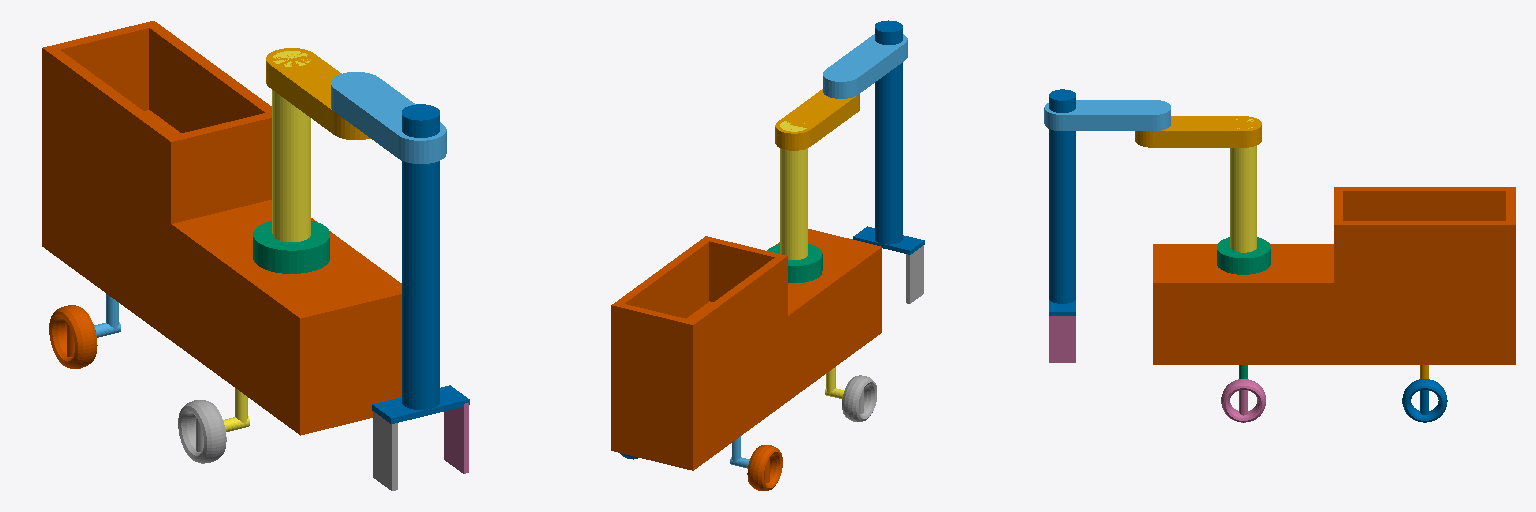
URDF robot description (robot_model):
<robot name="robot_model" version="1.0">
  <joint name="arm_1_link_joint" type="continuous">
    <limit lower="0" upper="0" effort="0.00000" velocity="0.00000"/>
    <origin rpy="0.00000 0.00000 0.00000" xyz="-0.00000 0.00000 0.65000"/>
    <parent link="arm_column_link"/>
    <child link="arm_1_link"/>
    <axis xyz="0.00000 0.00000 1.00000"/>
  </joint>
  <joint name="arm_2_link_joint" type="continuous">
    <limit lower="0" upper="0" effort="0.00000" velocity="0.00000"/>
    <origin rpy="0.00000 0.00000 0.00000" xyz="0.00000 -1.00000 0.20000"/>
    <parent link="arm_1_link"/>
    <child link="arm_2_link"/>
    <axis xyz="0.00000 0.00000 1.00000"/>
  </joint>
  <joint name="arm_base_link_joint" type="fixed">
    <origin rpy="0.00000 0.00000 0.00000" xyz="0.00000 -1.08925 0.52413"/>
    <parent link="chasis_link"/>
    <child link="arm_base_link"/>
  </joint>
  <joint name="arm_column_link_joint" type="continuous">
    <limit lower="0" upper="0" effort="0.00000" velocity="0.00000"/>
    <origin rpy="0.00000 0.00000 0.00000" xyz="0.00000 0.00000 0.85000"/>
    <parent link="arm_base_link"/>
    <child link="arm_column_link"/>
    <axis xyz="0.00000 0.00000 1.00000"/>
  </joint>
  <joint name="arm_gripper_link_joint" type="prismatic">
    <limit lower="-0.20000" upper="-1.80000" effort="0.00000" velocity="0.00000"/>
    <origin rpy="0.00000 0.00000 0.00000" xyz="-0.00000 -1.00000 -0.07053"/>
    <parent link="arm_2_link"/>
    <child link="arm_gripper_link"/>
    <axis xyz="0.00000 0.00000 1.00000"/>
  </joint>
  <joint name="gripper_left_link_joint" type="prismatic">
    <limit lower="0.00000" upper="-0.25000" effort="0.00000" velocity="0.00000"/>
    <origin rpy="0.00000 -1.57080 0.00000" xyz="0.32000 -0.00000 -2.53589"/>
    <parent link="arm_gripper_link"/>
    <child link="gripper_left_link"/>
    <axis xyz="0.00000 0.00000 1.00000"/>
  </joint>
  <joint name="gripper_right_link_joint" type="prismatic">
    <limit lower="0.00000" upper="0.25000" effort="0.00000" velocity="0.00000"/>
    <origin rpy="-0.00000 1.57080 0.00000" xyz="-0.32000 -0.00000 -2.53589"/>
    <parent link="arm_gripper_link"/>
    <child link="gripper_right_link"/>
    <axis xyz="0.00000 0.00000 1.00000"/>
  </joint>
  <joint name="subjection_down_left_wheel_link_joint" type="fixed">
    <origin rpy="0.00000 0.00000 0.00000" xyz="0.53571 0.91075 -0.81158"/>
    <parent link="chasis_link"/>
    <child link="subjection_down_left_wheel_link"/>
  </joint>
  <joint name="subjection_down_right_wheel_link_joint" type="fixed">
    <origin rpy="0.00000 0.00000 0.00000" xyz="-0.53571 0.91075 -0.81158"/>
    <parent link="chasis_link"/>
    <child link="subjection_down_right_wheel_link"/>
  </joint>
  <joint name="subjection_up_left_wheel_link_joint" type="fixed">
    <origin rpy="0.00000 0.00000 0.00000" xyz="0.53571 -1.08925 -0.81158"/>
    <parent link="chasis_link"/>
    <child link="subjection_up_left_wheel_link"/>
  </joint>
  <joint name="subjection_up_right_wheel_link_joint" type="fixed">
    <origin rpy="0.00000 0.00000 0.00000" xyz="-0.53571 -1.08925 -0.81158"/>
    <parent link="chasis_link"/>
    <child link="subjection_up_right_wheel_link"/>
  </joint>
  <joint name="wheel_down_left_link_joint" type="continuous">
    <limit lower="0" upper="0" effort="0.00000" velocity="0.00000"/>
    <origin rpy="-0.00000 1.57080 0.00000" xyz="0.26429 0.00000 -0.06429"/>
    <parent link="subjection_down_left_wheel_link"/>
    <child link="wheel_down_left_link"/>
    <axis xyz="0.00000 0.00000 1.00000"/>
  </joint>
  <joint name="wheel_down_right_link_joint" type="continuous">
    <limit lower="0" upper="0" effort="0.00000" velocity="0.00000"/>
    <origin rpy="-0.00000 1.57080 0.00000" xyz="-0.26429 0.00000 -0.06429"/>
    <parent link="subjection_down_right_wheel_link"/>
    <child link="wheel_down_right_link"/>
    <axis xyz="0.00000 0.00000 1.00000"/>
  </joint>
  <joint name="wheel_up_left_link_joint" type="continuous">
    <limit lower="0" upper="0" effort="0.00000" velocity="0.00000"/>
    <origin rpy="-0.00000 1.57080 0.00000" xyz="0.26429 0.00000 -0.06429"/>
    <parent link="subjection_up_left_wheel_link"/>
    <child link="wheel_up_left_link"/>
    <axis xyz="0.00000 0.00000 1.00000"/>
  </joint>
  <joint name="wheel_up_right_link_joint" type="continuous">
    <limit lower="0" upper="0" effort="0.00000" velocity="0.00000"/>
    <origin rpy="-0.00000 1.57080 0.00000" xyz="-0.26429 0.00000 -0.06429"/>
    <parent link="subjection_up_right_wheel_link"/>
    <child link="wheel_up_right_link"/>
    <axis xyz="0.00000 0.00000 1.00000"/>
  </joint>
  <link name="arm_1_link">
    <visual name="arm_1">
      <origin rpy="0.00000 0.00000 0.00000" xyz="0.00000 -0.50000 0.00000"/>
      <geometry>
        <mesh filename="../meshes/dae/Cylinder.015.dae" scale="0.20000 0.20000 0.10000"/>
      </geometry>
    </visual>
  </link>
  <link name="arm_2_link">
    <visual name="arm_2">
      <origin rpy="0.00000 0.00000 0.00000" xyz="0.00000 -0.50000 0.00000"/>
      <geometry>
        <mesh filename="../meshes/dae/Cylinder.017.dae" scale="0.20000 0.20000 0.10000"/>
      </geometry>
    </visual>
  </link>
  <link name="arm_base_link">
    <visual name="arm_base">
      <origin rpy="0.00000 0.00000 0.00000" xyz="0.00000 0.00000 0.00000"/>
      <geometry>
        <cylinder radius="0.30000" length="0.20000"/>
      </geometry>
    </visual>
  </link>
  <link name="arm_column_link">
    <visual name="arm_column">
      <origin rpy="0.00000 0.00000 0.00000" xyz="0.00000 0.00000 0.00000"/>
      <geometry>
        <cylinder radius="0.15000" length="1.50000"/>
      </geometry>
    </visual>
  </link>
  <link name="arm_gripper_link">
    <visual name="arm_gripper">
      <origin rpy="0.00000 0.00000 0.00000" xyz="0.00000 -0.00000 0.00000"/>
      <geometry>
        <mesh filename="../meshes/dae/Cube.007.dae" scale="0.35000 0.15000 0.02500"/>
      </geometry>
    </visual>
  </link>
  <link name="chasis_link">
    <visual name="chasis">
      <origin rpy="0.00000 0.00000 0.00000" xyz="0.00000 0.00000 0.00000"/>
      <geometry>
        <mesh filename="../meshes/dae/Cube.003.dae" scale="0.05000 1.00000 0.35000"/>
      </geometry>
    </visual>
  </link>
  <link name="gripper_left_link">
    <visual name="gripper_left">
      <origin rpy="3.14159 0.00000 3.14159" xyz="1.05643 0.00000 -0.00000"/>
      <geometry>
        <mesh filename="../meshes/dae/Cube.009.dae" scale="0.30000 0.15000 0.02500"/>
      </geometry>
    </visual>
  </link>
  <link name="gripper_right_link">
    <visual name="gripper_right">
      <origin rpy="0.00000 -0.00000 0.00000" xyz="-1.05643 0.00000 0.00000"/>
      <geometry>
        <mesh filename="../meshes/dae/Cube.008.dae" scale="0.30000 0.15000 0.02500"/>
      </geometry>
    </visual>
  </link>
  <link name="subjection_down_left_wheel_link">
    <visual name="subjection_down_left_wheel">
      <origin rpy="-0.00000 1.57080 0.00000" xyz="0.00000 0.00000 0.00000"/>
      <geometry>
        <mesh filename="../meshes/dae/Cylinder.009.dae" scale="0.05000 0.05000 0.20000"/>
      </geometry>
    </visual>
  </link>
  <link name="subjection_down_right_wheel_link">
    <visual name="subjection_down_right_wheel">
      <origin rpy="-0.00000 1.57080 0.00000" xyz="0.00000 0.00000 0.00000"/>
      <geometry>
        <mesh filename="../meshes/dae/Cylinder.004.dae" scale="0.05000 0.05000 0.20000"/>
      </geometry>
    </visual>
  </link>
  <link name="subjection_up_left_wheel_link">
    <visual name="subjection_up_left_wheel">
      <origin rpy="-0.00000 1.57080 0.00000" xyz="0.00000 0.00000 0.00000"/>
      <geometry>
        <mesh filename="../meshes/dae/Cylinder.010.dae" scale="0.05000 0.05000 0.20000"/>
      </geometry>
    </visual>
  </link>
  <link name="subjection_up_right_wheel_link">
    <visual name="subjection_up_right_wheel">
      <origin rpy="-0.00000 1.57080 0.00000" xyz="0.00000 0.00000 0.00000"/>
      <geometry>
        <mesh filename="../meshes/dae/Cylinder.011.dae" scale="0.05000 0.05000 0.20000"/>
      </geometry>
    </visual>
  </link>
  <link name="wheel_down_left_link">
    <visual name="wheel_down_left">
      <origin rpy="0.00000 -1.57080 0.00000" xyz="-0.00000 0.00000 0.00000"/>
      <geometry>
        <mesh filename="../meshes/dae/Cylinder.002.dae" scale="0.05000 0.05000 0.20000"/>
      </geometry>
    </visual>
  </link>
  <link name="wheel_down_right_link">
    <visual name="wheel_down_right">
      <origin rpy="0.00000 -1.57080 0.00000" xyz="0.00000 0.00000 0.00000"/>
      <geometry>
        <mesh filename="../meshes/dae/Cylinder.003.dae" scale="0.05000 0.05000 0.20000"/>
      </geometry>
    </visual>
  </link>
  <link name="wheel_up_left_link">
    <visual name="wheel_up_left">
      <origin rpy="0.00000 -1.57080 0.00000" xyz="-0.00000 0.00000 0.00000"/>
      <geometry>
        <mesh filename="../meshes/dae/Cylinder.001.dae" scale="0.05000 0.05000 0.20000"/>
      </geometry>
    </visual>
  </link>
  <link name="wheel_up_right_link">
    <visual name="wheel_up_right">
      <origin rpy="0.00000 -1.57080 0.00000" xyz="0.00000 0.00000 0.00000"/>
      <geometry>
        <mesh filename="../meshes/dae/Cylinder.dae" scale="0.05000 0.05000 0.20000"/>
      </geometry>
    </visual>
  </link>
</robot>

--- Facts derived from the render (not from the file) ---
3 views of the same robot in one strip: view 1: azimuth 30°, elevation 25°; view 2: azimuth 150°, elevation 25°; view 3: azimuth 270°, elevation 25° (orthographic).
Model robot_model with 16 links and 15 joints (7 continuous, 3 prismatic, 5 fixed), rooted at chasis_link, posed all joints at 0 but 1 set to mid-range because 0 is outside their limits (arm_gripper_link_joint = -1).
Visible links, largest first — view 1: chasis_link, arm_gripper_link, arm_column_link, arm_2_link, arm_1_link, arm_base_link, wheel_down_right_link, wheel_up_right_link, gripper_right_link, gripper_left_link, subjection_down_right_wheel_link, subjection_up_right_wheel_link; view 2: chasis_link, arm_gripper_link, arm_column_link, arm_2_link, arm_1_link, wheel_down_right_link, wheel_up_right_link, arm_base_link, gripper_right_link; view 3: chasis_link, arm_gripper_link, arm_2_link, arm_1_link, arm_column_link, arm_base_link, wheel_down_left_link, wheel_up_left_link, gripper_left_link.
Link boxes in pixels (x1,y1,x2,y2): chasis_link: [42, 21, 401, 435]; arm_gripper_link: [372, 104, 469, 423]; arm_column_link: [272, 51, 310, 241]; arm_2_link: [331, 72, 446, 163]; arm_1_link: [266, 48, 370, 139]; arm_base_link: [253, 220, 329, 273]; wheel_down_right_link: [49, 305, 97, 368]; wheel_up_right_link: [178, 400, 226, 463]; gripper_right_link: [373, 411, 397, 490]; gripper_left_link: [444, 403, 468, 473]; subjection_down_right_wheel_link: [94, 294, 120, 337]; subjection_up_right_wheel_link: [223, 388, 249, 431]; chasis_link: [611, 229, 881, 470]; arm_gripper_link: [853, 20, 924, 254]; arm_column_link: [780, 121, 807, 259]; arm_2_link: [823, 34, 907, 98]; arm_1_link: [775, 89, 859, 150]; wheel_down_right_link: [747, 445, 782, 490]; wheel_up_right_link: [842, 375, 876, 421]; arm_base_link: [767, 244, 822, 282]; gripper_right_link: [906, 245, 923, 303]; chasis_link: [1153, 187, 1515, 364]; arm_gripper_link: [1049, 89, 1075, 315]; arm_2_link: [1044, 100, 1170, 130]; arm_1_link: [1135, 116, 1261, 147]; arm_column_link: [1230, 119, 1256, 252]; arm_base_link: [1217, 237, 1270, 274]; wheel_down_left_link: [1402, 379, 1447, 422]; wheel_up_left_link: [1221, 379, 1265, 422]; gripper_left_link: [1049, 316, 1075, 362].
Size in the robot's own frame: 1.8 by 5.2 by 3.6 metres.
14 mesh visuals loaded from 14 distinct referenced files (14 Collada DAE).